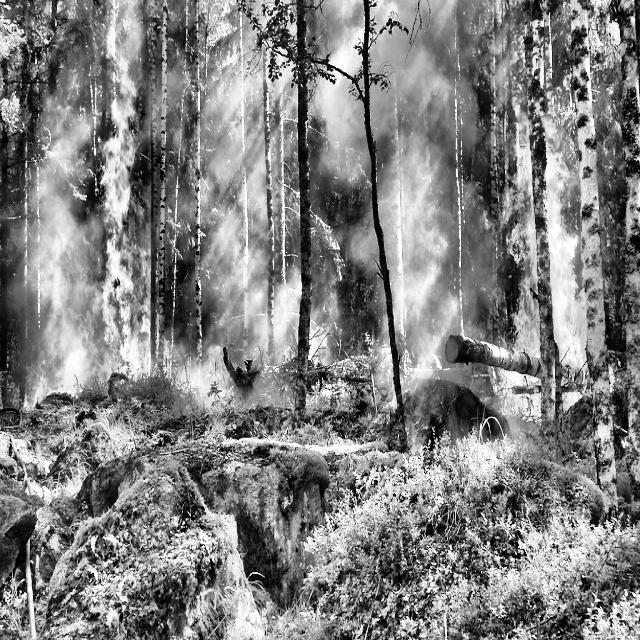fire: (21, 40, 192, 429), (456, 6, 592, 488)
